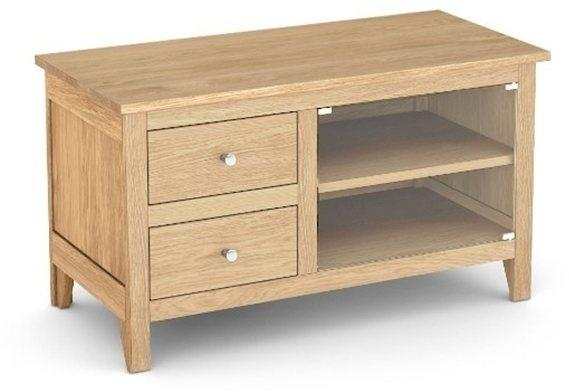cabinet_door: (154, 120, 301, 198), (152, 213, 300, 289)
handle: (219, 244, 241, 266), (220, 149, 240, 170)
